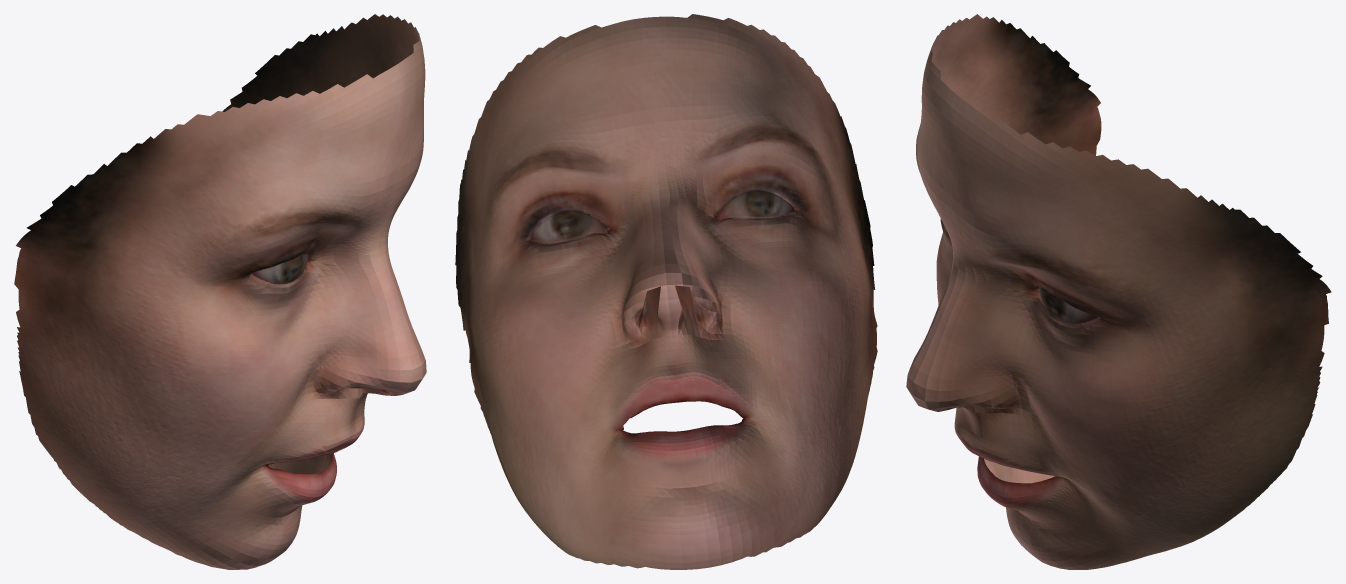
The model's file is frame_926_mesh.obj.
3 renders of one model, left to right at view 1: azimuth 30°, elevation 25°; view 2: azimuth 150°, elevation 25°; view 3: azimuth 270°, elevation 25°, orthographic. The views are drawn at different scales.
Size of the model in its own units: 1.36 by 1.71 by 1.27.
